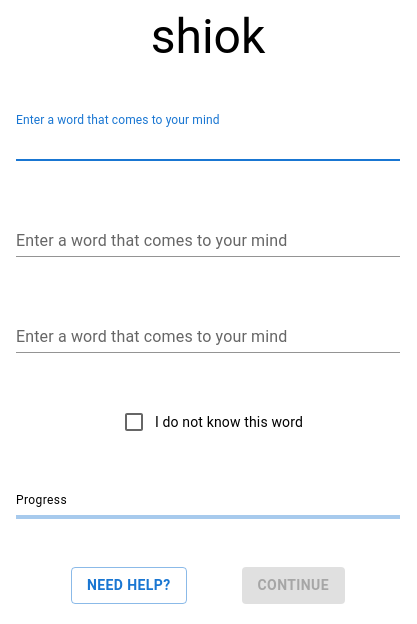
it: QuizPage › allows Continue when the participant does not recognise the word
The image size is (417, 624).
Step 1. Click the checkbox → (134, 422), box x1=122 y1=410 x2=146 y2=434
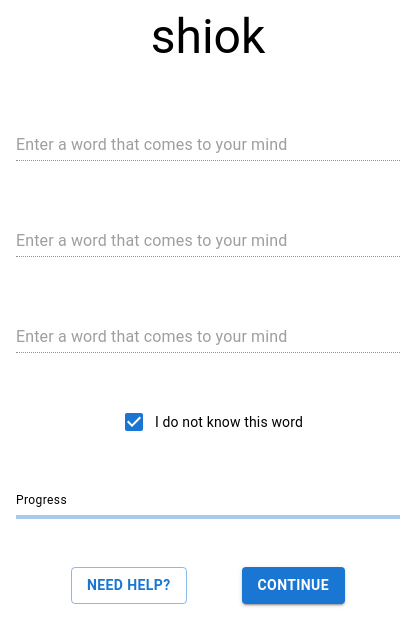
Expected: the button "continue" is enabled, x1=242 y1=567 x2=345 y2=604
